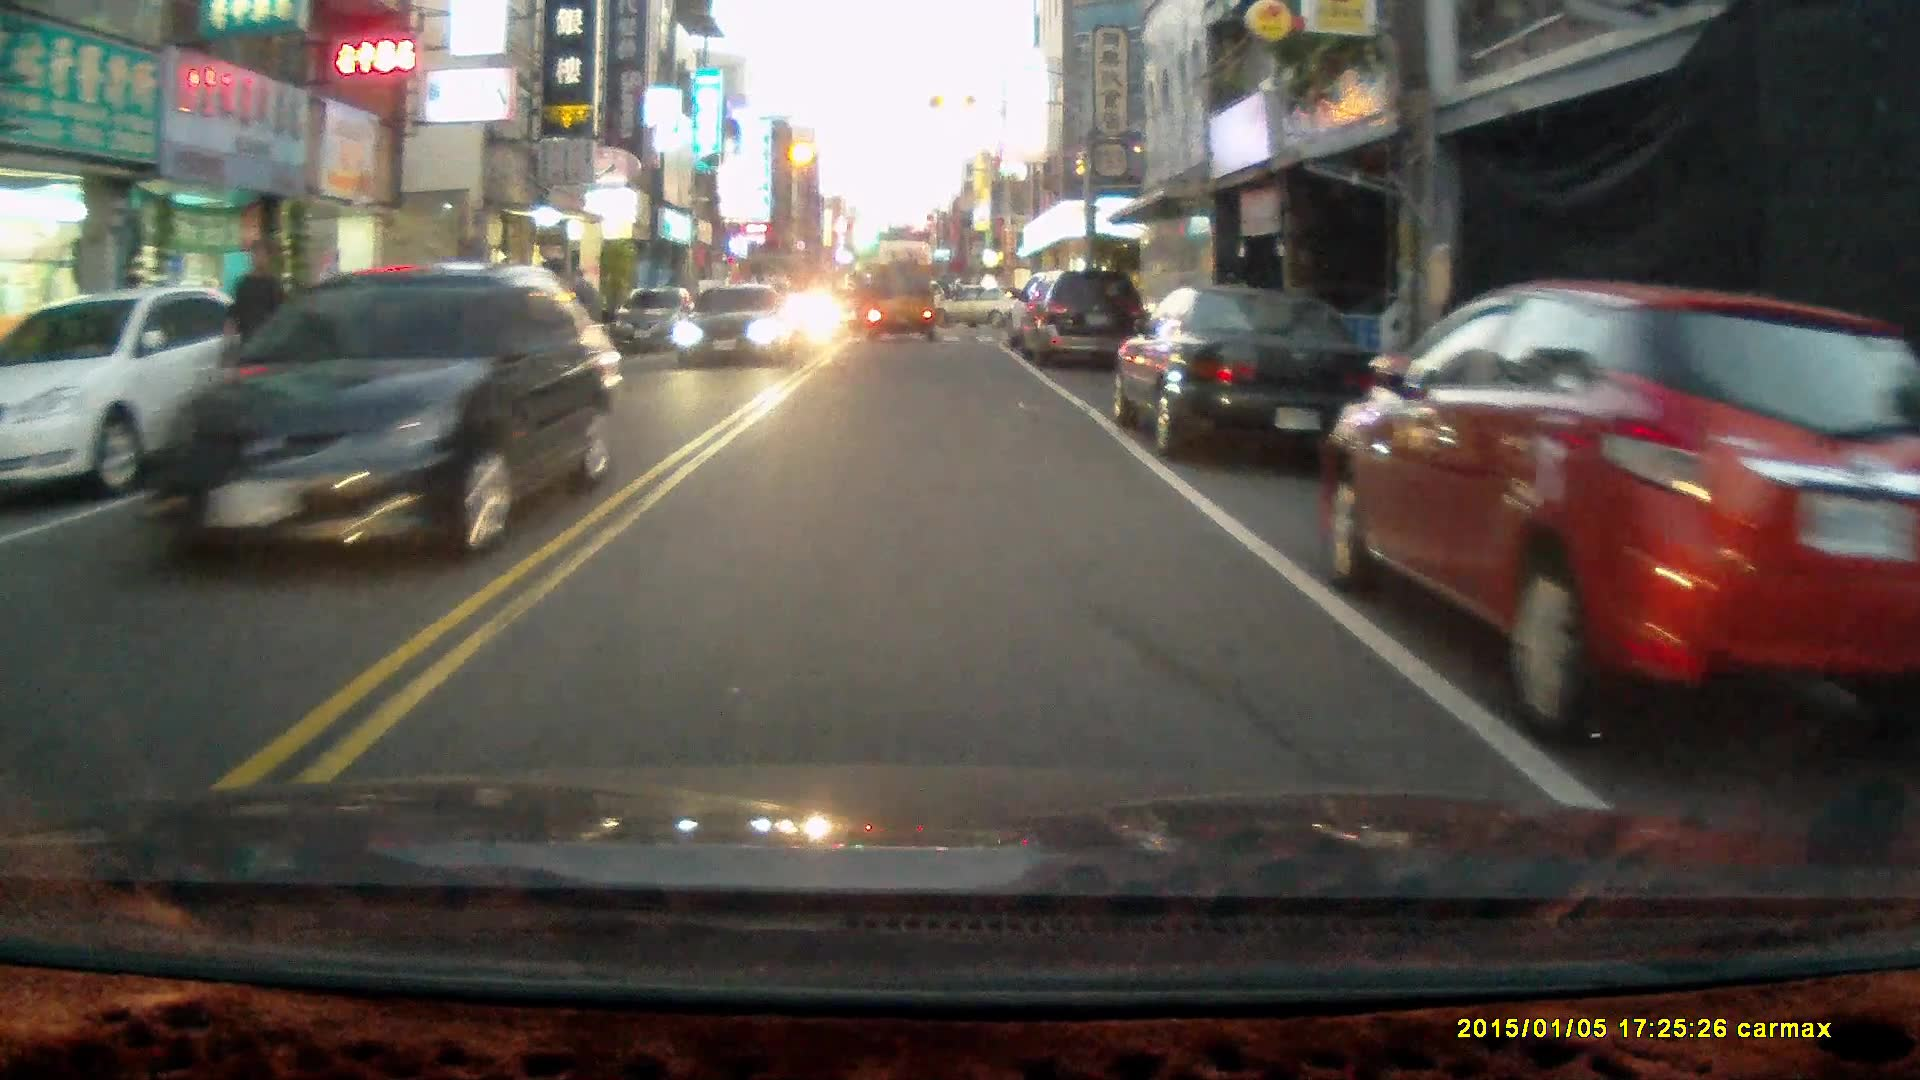pedestrian: (219, 238, 290, 419)
vehicle: (1327, 281, 1920, 756), (135, 265, 625, 570), (1111, 282, 1392, 462), (1016, 268, 1152, 370), (678, 285, 794, 373), (606, 288, 702, 352), (868, 262, 939, 344)
